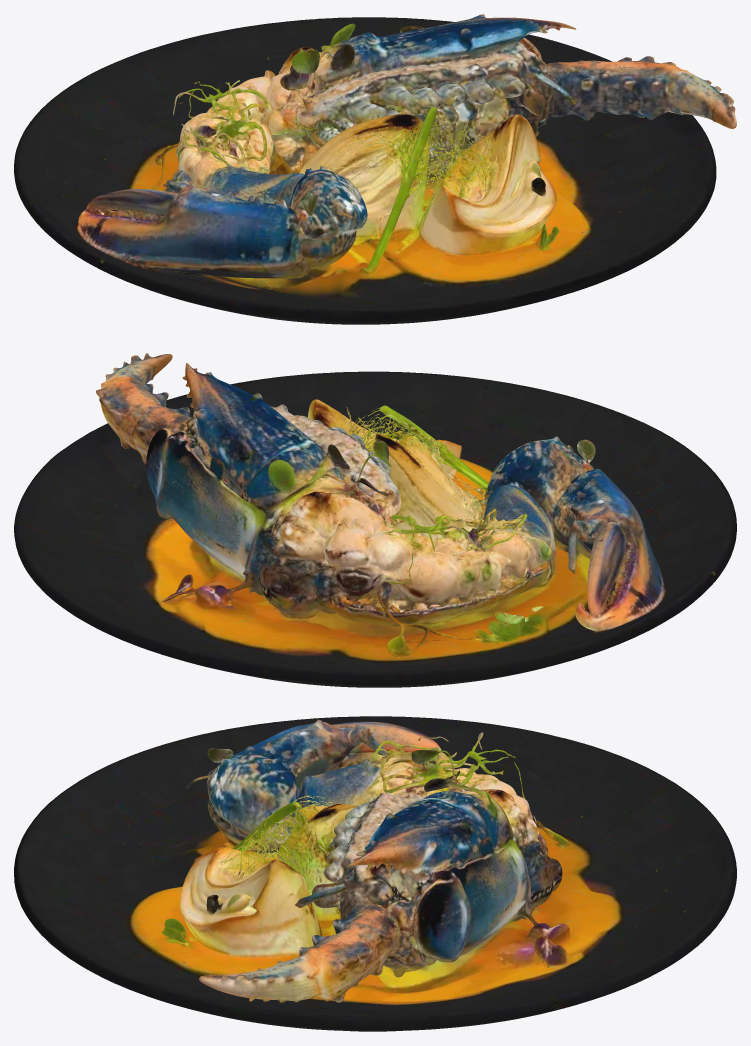
Rendered from homard-bisque-meshopt-ee44bc60.glb.
3 renders of one model, top to bottom at view 1: azimuth 30°, elevation 25°; view 2: azimuth 150°, elevation 25°; view 3: azimuth 270°, elevation 25°, orthographic. The views are drawn at different scales.
Size of the model in its own units: 1.9 by 0.4985 by 1.89.
Materials: 1 (1 with a texture image).
